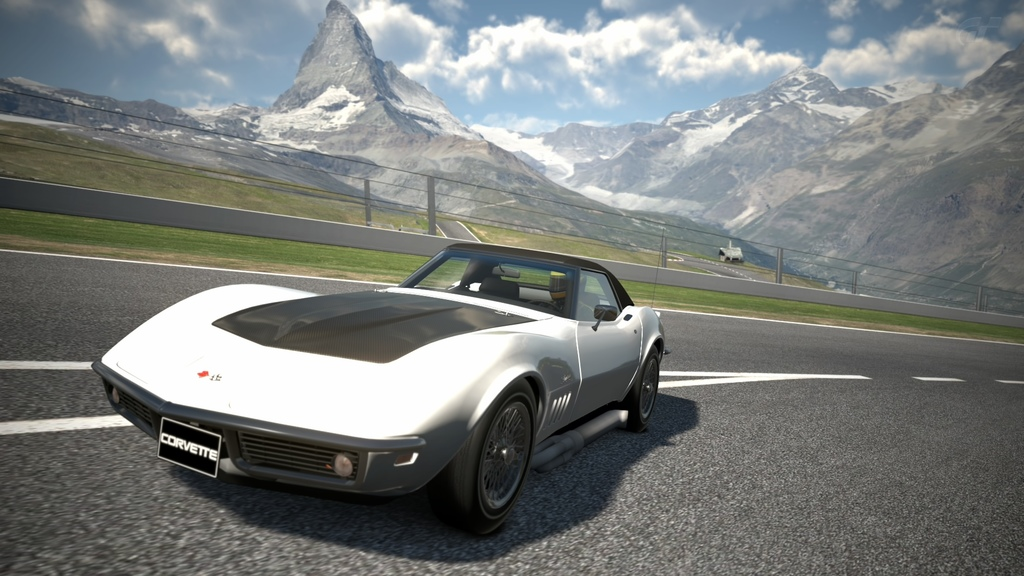mobil: (93, 238, 691, 538)
